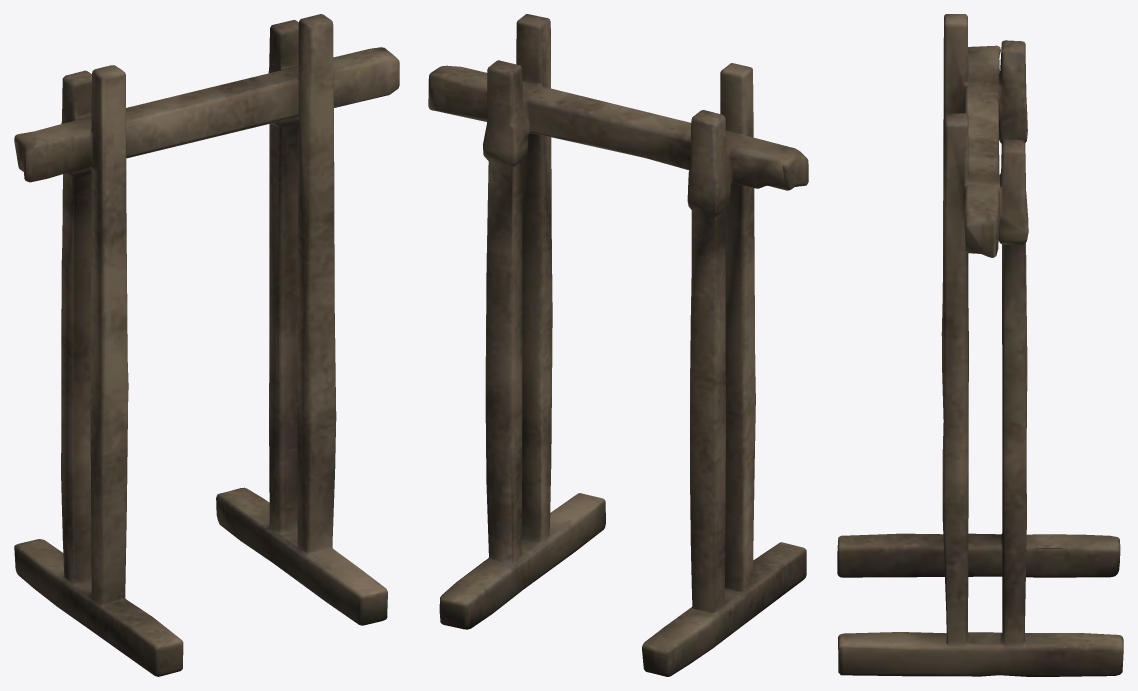
The model's file is rustic-wood-torii-frame-v001.glb.
3 renders of one model, left to right at view 1: azimuth 30°, elevation 25°; view 2: azimuth 150°, elevation 25°; view 3: azimuth 270°, elevation 25°, orthographic. The views are drawn at different scales.
Parts seen in each view (by area): view 1: rustic-wood-torii-frame; view 2: rustic-wood-torii-frame; view 3: rustic-wood-torii-frame.
Boxes of the visible parts, x1,y1,x2,y2 form: rustic-wood-torii-frame: (14, 14, 399, 676); rustic-wood-torii-frame: (428, 14, 808, 676); rustic-wood-torii-frame: (837, 14, 1123, 676).
Bounding box in the file's own units: 1.86 × 2.66 × 1.25.
Materials: 1 (1 with a texture image).
